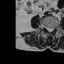CCS_normal: (49, 25, 50, 34)
LFS_normal: (53, 25, 55, 32)
LLS_normal: (50, 25, 53, 33)
RFS_normal: (45, 23, 47, 31)
RLS_normal: (47, 25, 49, 33)
